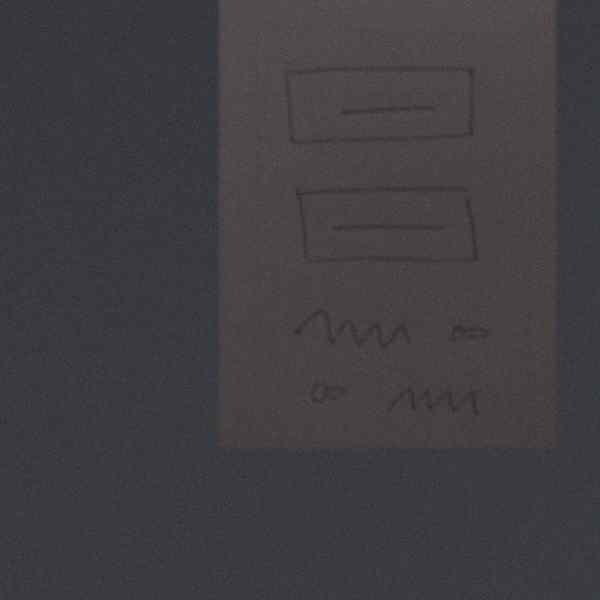button: (277, 58, 492, 152), (282, 181, 499, 273)
switch: (299, 376, 356, 411), (443, 319, 508, 349)
text: (286, 296, 418, 356), (380, 380, 483, 423)
